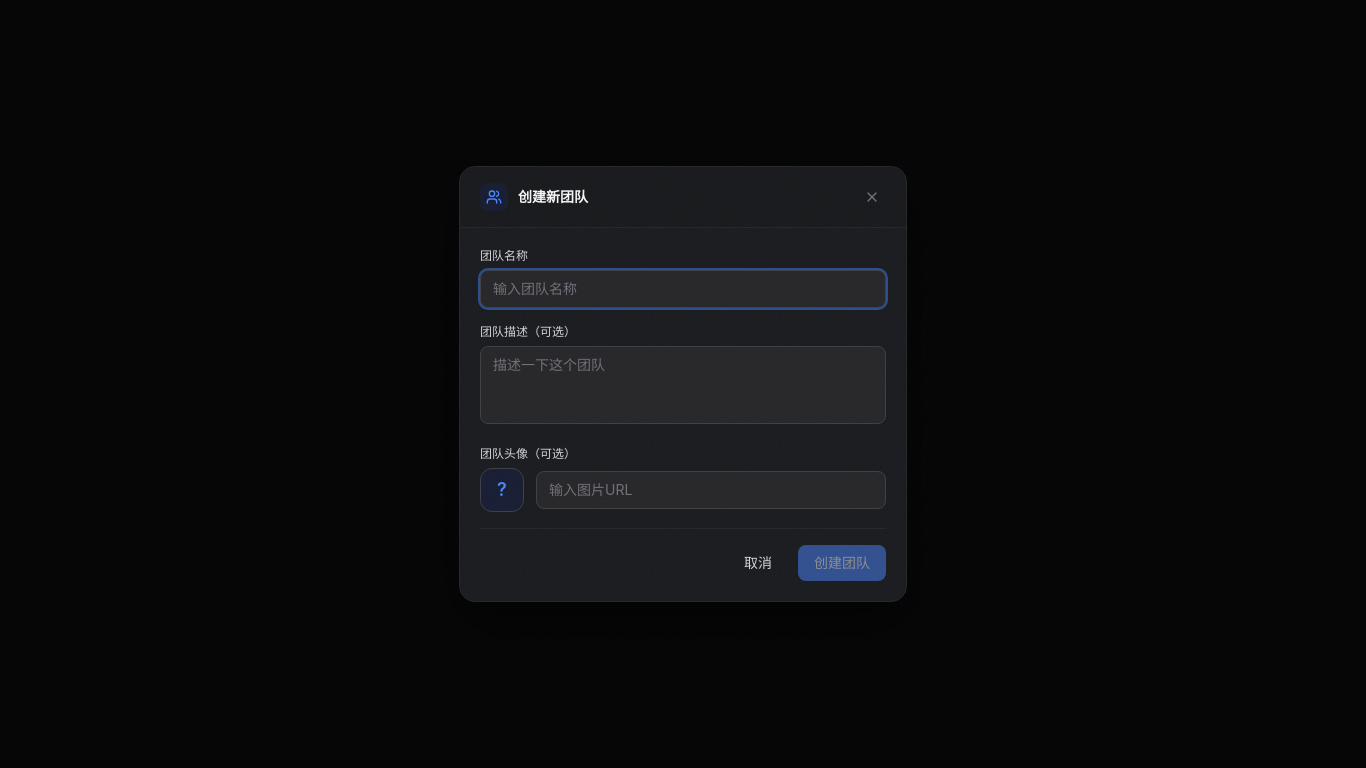
Test case: CreateTeamModal › enables submit button when name is filled
In the field with placeholder "输入团队名称": (683, 289) x1=480 y1=270 x2=886 y2=308, type "Test Team"
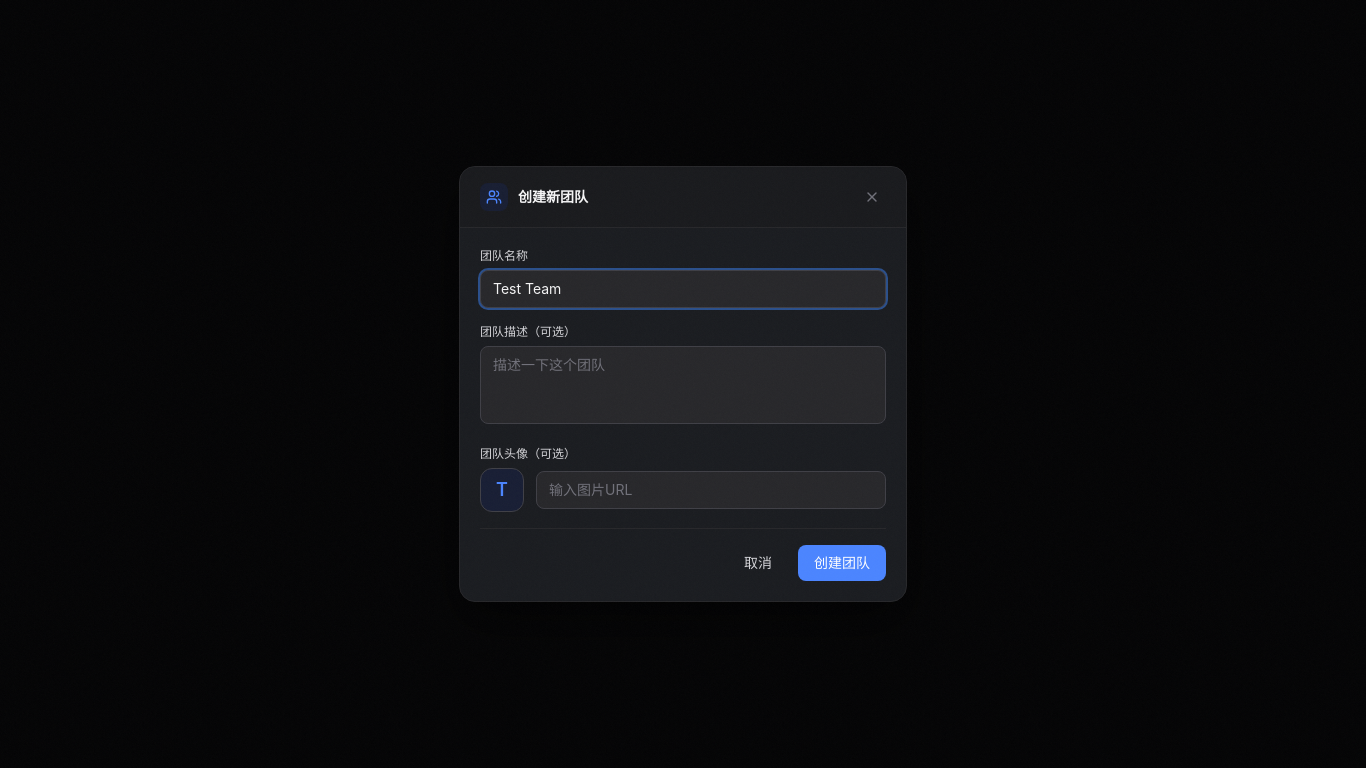
Now the button "创建团队" is enabled, box x1=798 y1=545 x2=886 y2=581
